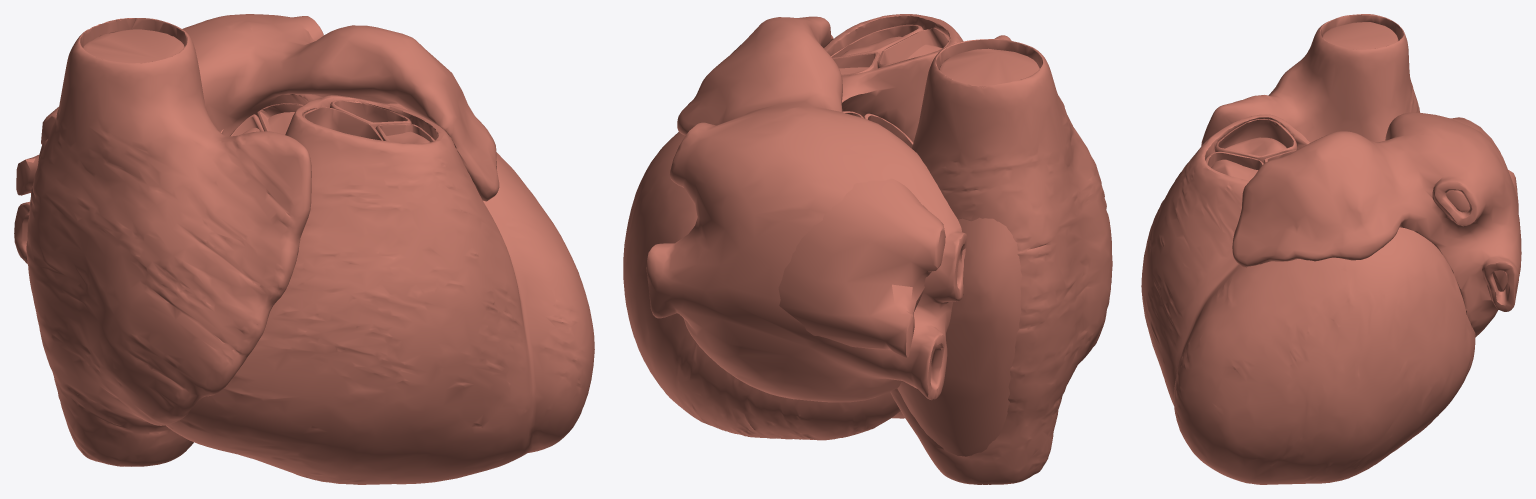
Rendered from heart.thorax.glb.
3 views of the same model, side by side, from view 1: azimuth 30°, elevation 25°; view 2: azimuth 150°, elevation 25°; view 3: azimuth 270°, elevation 25° (orthographic). The views are drawn at different scales.
Parts seen in each view (by area): view 1: wall_of_ventricle, wall_of_right_atrium, wall_of_left_atrium, cavity_of_right_atrium, right_anterior_cusp_of_pulmonary_valve, posterior_cusp_of_pulmonary_valve, cavity_of_left_atrium; view 2: wall_of_left_atrium, wall_of_right_atrium, wall_of_ventricle, cavity_of_left_atrium, cavity_of_right_atrium, right_anterior_cusp_of_pulmonary_valve, left_anterior_cusp_of_pulmonary_valve, cavity_of_right_ventricle, posterior_cusp_of_pulmonary_valve; view 3: wall_of_ventricle, wall_of_left_atrium, wall_of_right_atrium, right_anterior_cusp_of_pulmonary_valve, cavity_of_right_atrium, cavity_of_right_ventricle, cavity_of_left_atrium, left_anterior_cusp_of_pulmonary_valve.
Boxes of the visible parts, x1,y1,x2,y2 form: wall_of_ventricle: (166,94,594,484); wall_of_right_atrium: (26,18,311,466); wall_of_left_atrium: (14,14,499,263); cavity_of_right_atrium: (83,29,184,63); right_anterior_cusp_of_pulmonary_valve: (302,107,382,140); posterior_cusp_of_pulmonary_valve: (330,100,411,128); cavity_of_left_atrium: (16,106,59,195); wall_of_left_atrium: (646,16,967,402); wall_of_right_atrium: (890,35,1112,484); wall_of_ventricle: (623,14,963,440); cavity_of_left_atrium: (778,178,945,357); cavity_of_right_atrium: (897,48,1039,456); right_anterior_cusp_of_pulmonary_valve: (877,28,949,68); left_anterior_cusp_of_pulmonary_valve: (831,24,923,58); cavity_of_right_ventricle: (839,36,942,74); posterior_cusp_of_pulmonary_valve: (833,52,879,75); wall_of_ventricle: (1141,114,1475,484); wall_of_left_atrium: (1232,112,1521,337); wall_of_right_atrium: (1201,14,1420,145); right_anterior_cusp_of_pulmonary_valve: (1215,118,1297,163); cavity_of_right_atrium: (1322,22,1398,49); cavity_of_right_ventricle: (1211,137,1286,180); cavity_of_left_atrium: (1446,117,1518,291); left_anterior_cusp_of_pulmonary_valve: (1205,151,1263,169).
Bounding box in the file's own units: 0.1154 × 0.1053 × 0.1064.
